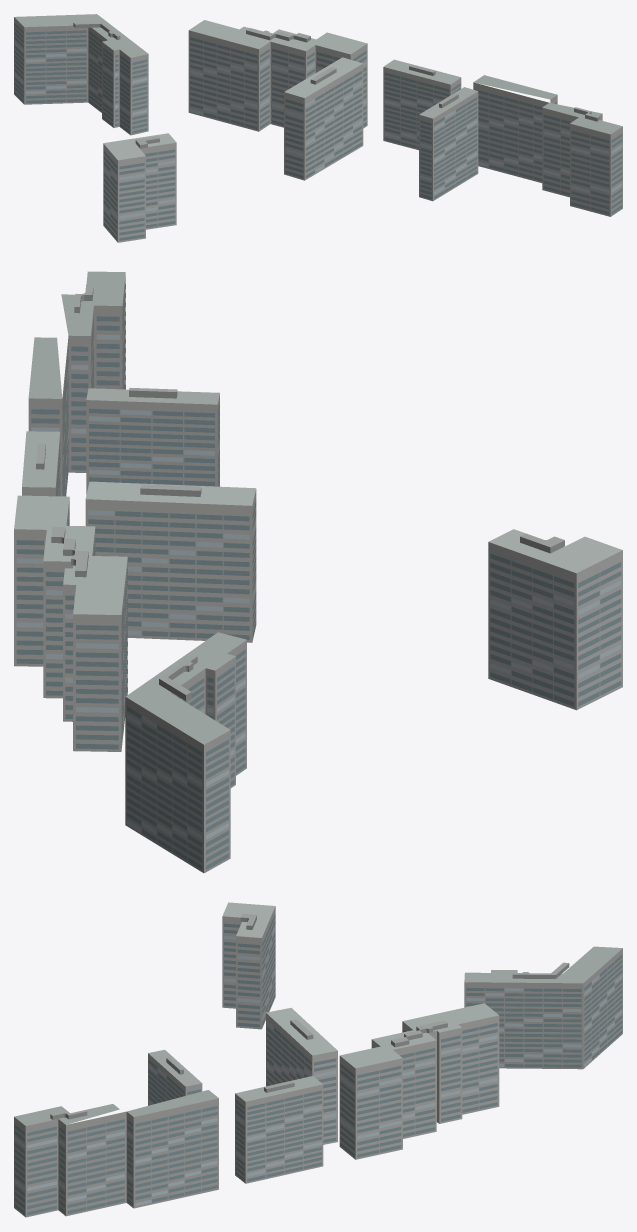
File: apt-a13606101.glb
3 views of the same model, one above another, from view 1: azimuth 30°, elevation 25°; view 2: azimuth 150°, elevation 25°; view 3: azimuth 270°, elevation 25° (orthographic). The views are drawn at different scales.
Visible parts, largest first — view 1: apt-a13606101; view 2: apt-a13606101; view 3: apt-a13606101.
Part boxes in pixels (left/top/right/bottom): apt-a13606101: left=14, top=14, right=622, bottom=242; apt-a13606101: left=14, top=271, right=622, bottom=873; apt-a13606101: left=14, top=902, right=622, bottom=1217.
Bounding box in the file's own units: 240 × 48 × 276.
